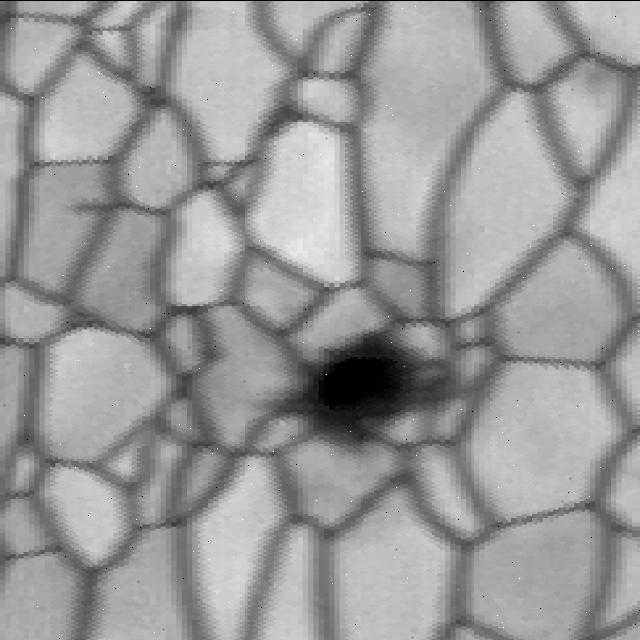good_void: (257, 318, 469, 458)
